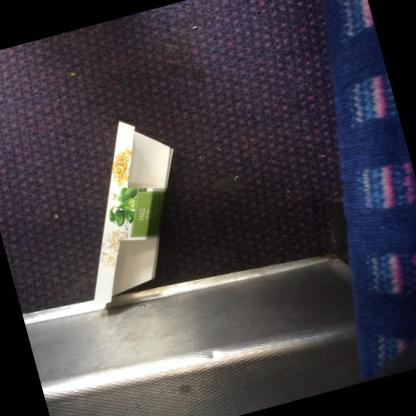Paper: (91, 120, 172, 307)
